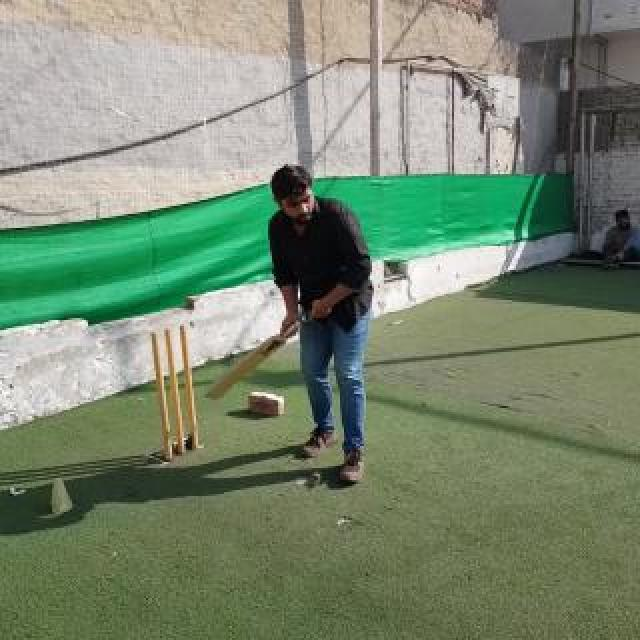bat: (204, 312, 312, 400)
